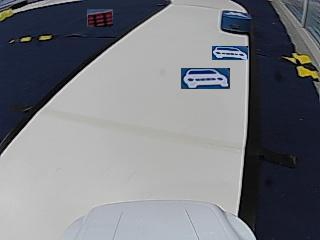prop: (220, 10, 251, 33)
